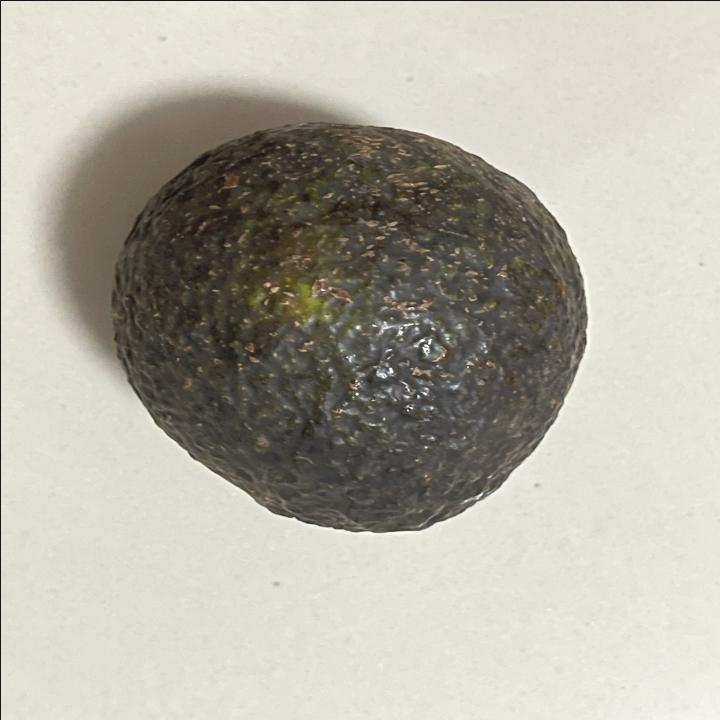Level1: (86, 109, 614, 546)
